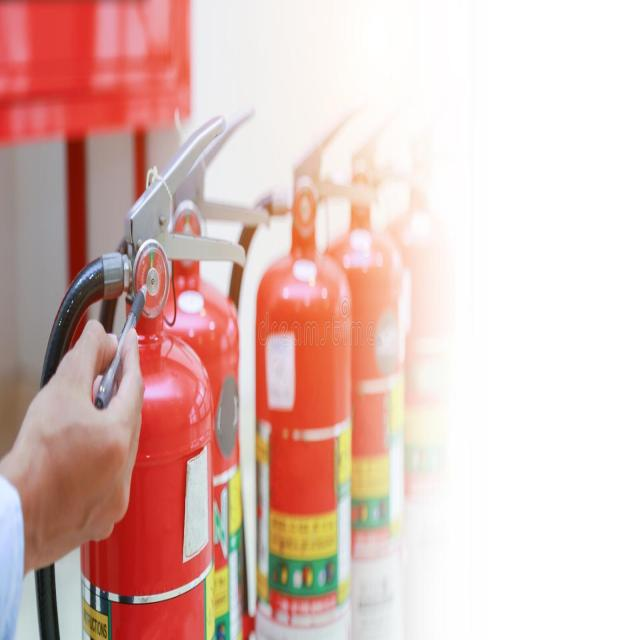fire_extinguisher: (26, 105, 248, 639), (222, 98, 384, 639)
